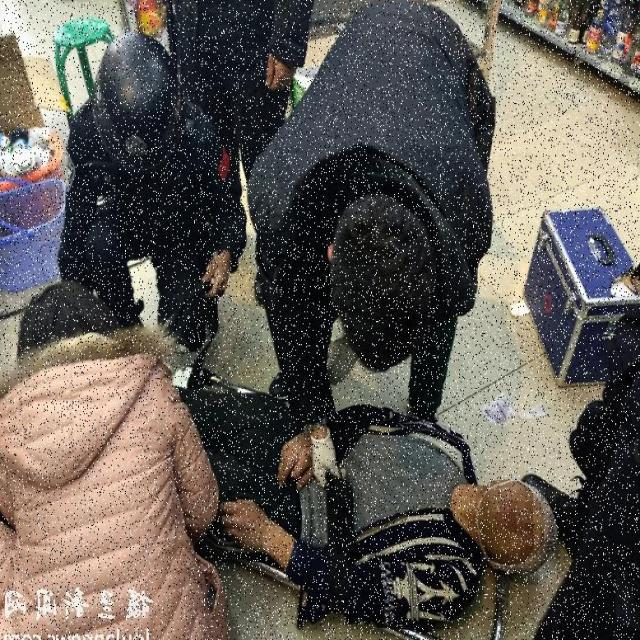fall: (222, 426, 557, 610)
